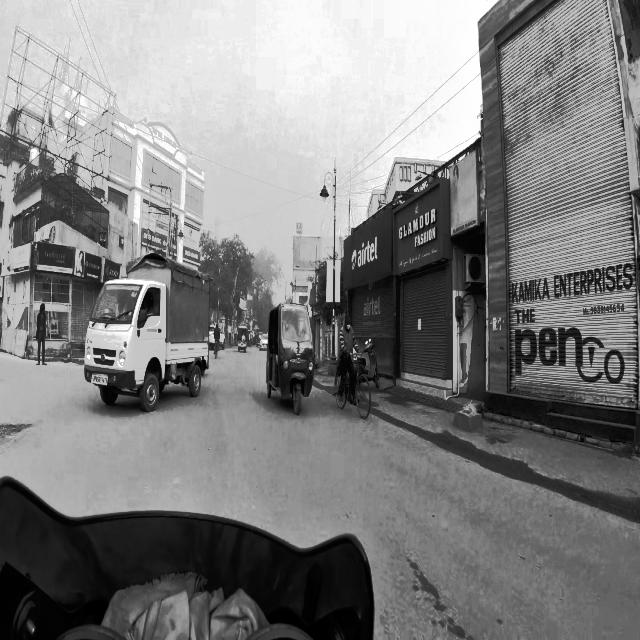Auto-Rickshaw: (262, 288, 324, 425)
LCV: (89, 251, 214, 413)
